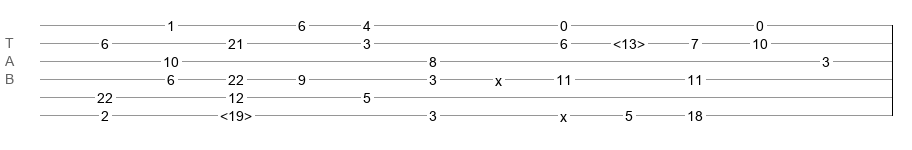0: (560, 18, 568, 28), (756, 18, 764, 28)
1: (167, 18, 175, 28)
10: (163, 54, 179, 64), (752, 36, 768, 46)
11: (556, 72, 572, 82), (687, 72, 703, 82)
12: (228, 90, 244, 100)
18: (687, 108, 703, 118)
2: (101, 108, 109, 118)
21: (228, 36, 244, 46)
22: (97, 90, 113, 100), (228, 72, 244, 82)
3: (363, 36, 371, 46), (429, 72, 437, 82), (429, 108, 437, 118), (822, 54, 830, 64)
4: (363, 18, 371, 28)
5: (363, 90, 371, 100), (625, 108, 633, 118)
6: (101, 36, 109, 46), (167, 72, 175, 82), (298, 18, 306, 28), (560, 36, 568, 46)
7: (691, 36, 699, 46)
8: (429, 54, 437, 64)
9: (298, 72, 306, 82)
harmonic: (220, 108, 252, 118), (613, 36, 645, 46)
x: (495, 73, 502, 81), (560, 109, 567, 117)
